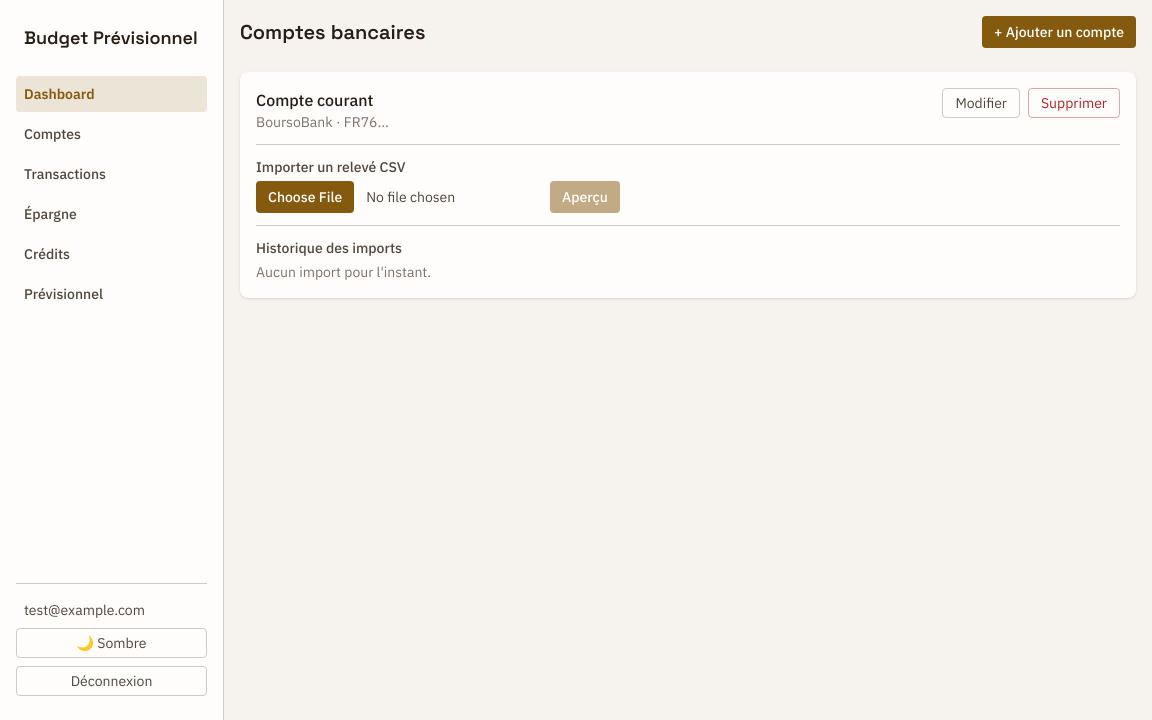
Test case: AccountsPage › deletes an account after confirmation
The width and height of the screenshot is (1152, 720).
Expected: the text "Compte courant" is shown, [256, 88, 389, 112]
Click the button "Supprimer": (1074, 103) [1028, 88, 1120, 118]
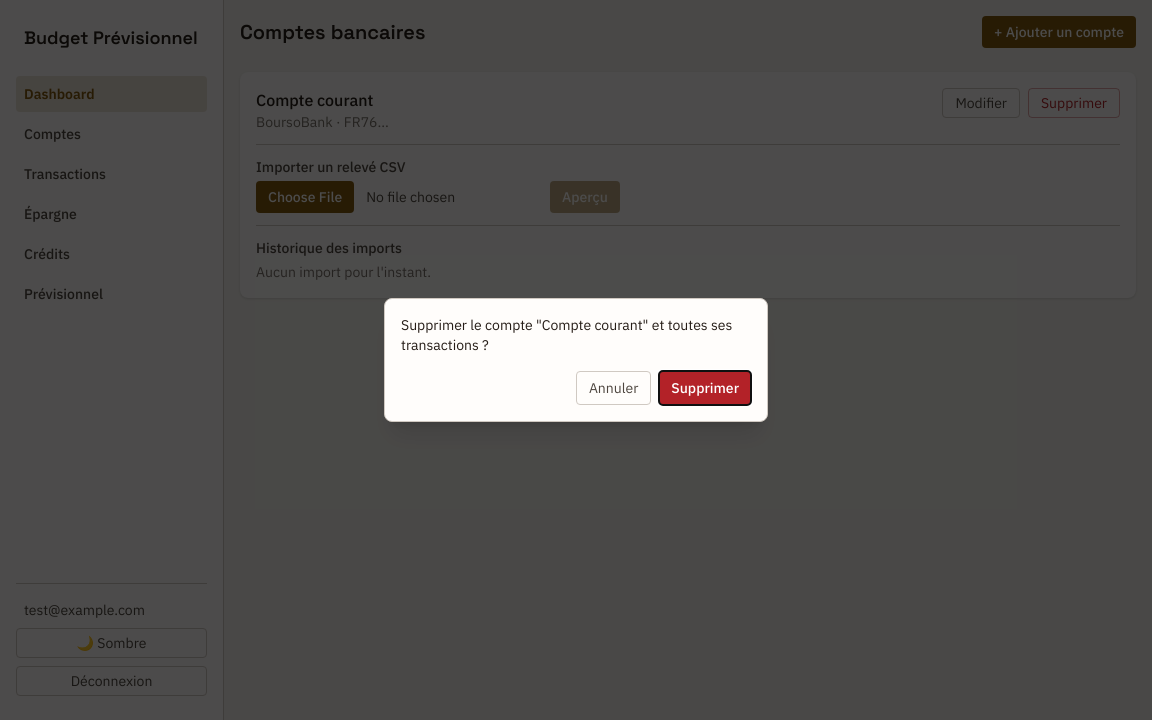
Click the button "Supprimer": (705, 388) [659, 371, 751, 405]
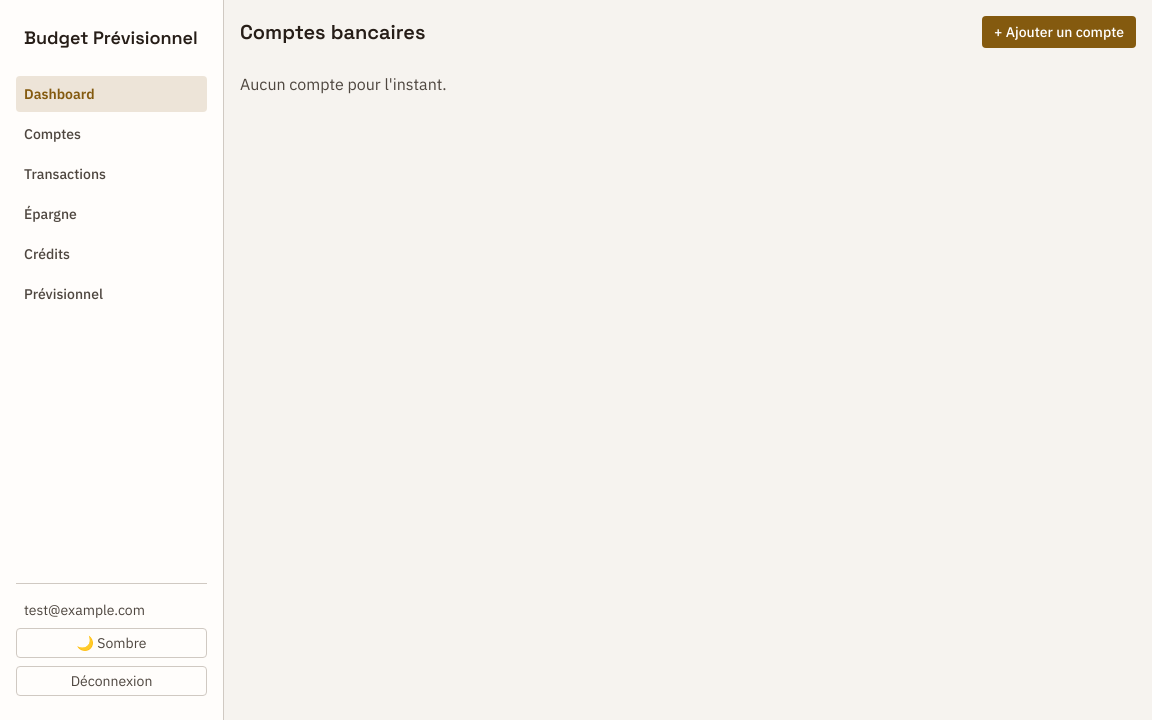
Result: the text "Aucun compte pour l'instant." is shown at [240, 74, 447, 94]
